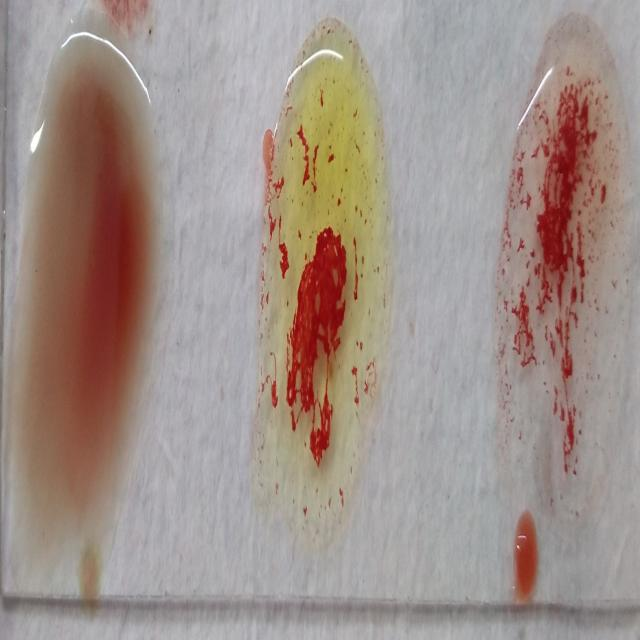B: (259, 31, 389, 548)
D: (494, 21, 636, 582)
